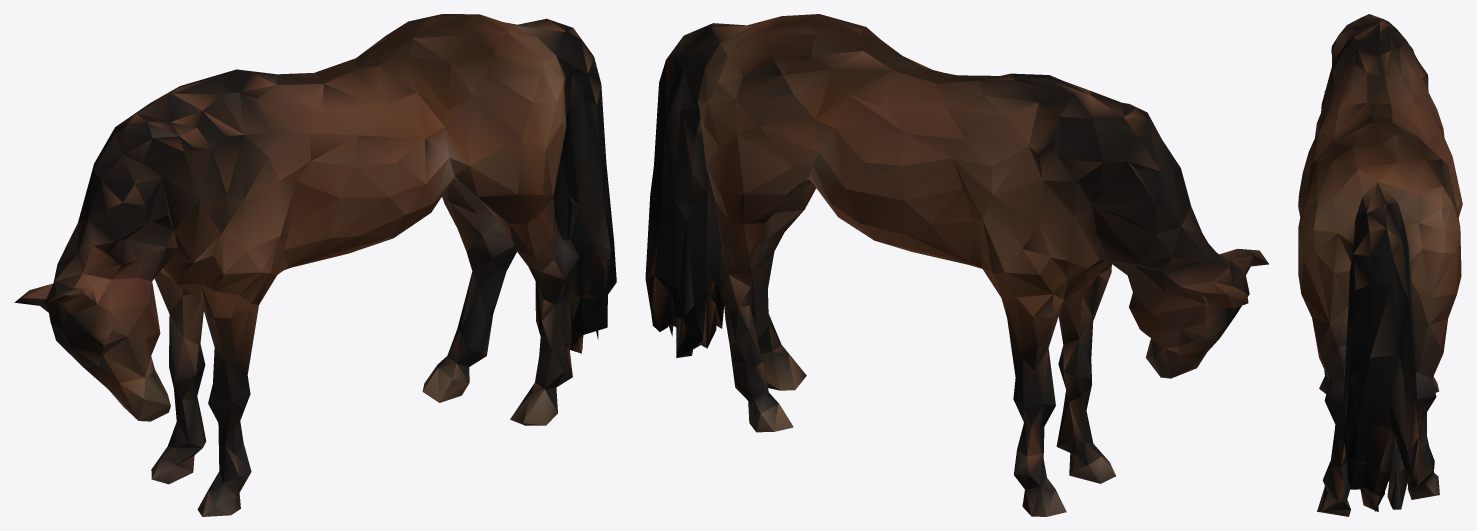
Rendered from horse_grazing.glb.
3 views of the same model, side by side, from view 1: azimuth 30°, elevation 25°; view 2: azimuth 150°, elevation 25°; view 3: azimuth 270°, elevation 25° (orthographic). The views are drawn at different scales.
Visible parts, largest first — view 1: horse_grazing; view 2: horse_grazing; view 3: horse_grazing.
Boxes of the visible parts, x1,y1,x2,y2 form: horse_grazing: (14,14,616,516); horse_grazing: (645,14,1268,516); horse_grazing: (1298,14,1462,516).
Size of the model in its own units: 7.01 by 4.68 by 1.92.
